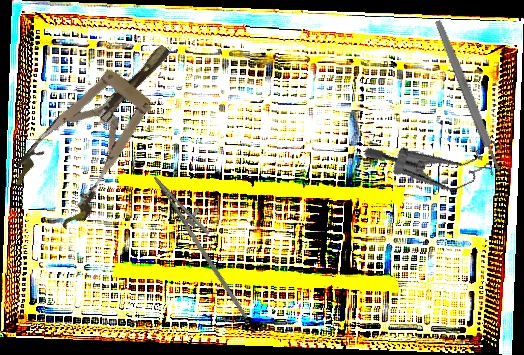Needle Holder: (137, 167, 274, 320)
Scalpel Handle: (433, 19, 503, 173)
Speculum: (4, 21, 202, 235), (361, 97, 514, 221)
